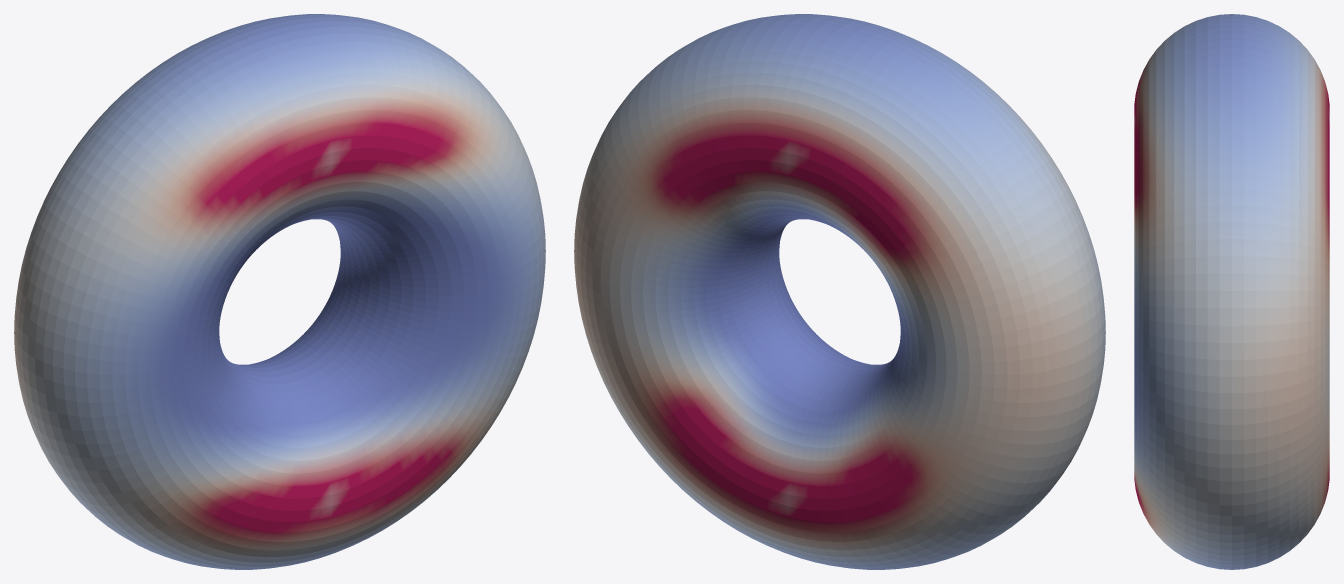
3 views of the same model, side by side, from view 1: azimuth 30°, elevation 25°; view 2: azimuth 150°, elevation 25°; view 3: azimuth 270°, elevation 25° (orthographic). The views are drawn at different scales.
Parts seen in each view (by area): view 1: world; view 2: world; view 3: world.
Boxes of the visible parts, <box> form: world: <box>14,14,545,569</box>; world: <box>574,14,1105,569</box>; world: <box>1134,14,1329,569</box>.
Bounding box in the file's own units: 18.53 × 18.53 × 6.52.
